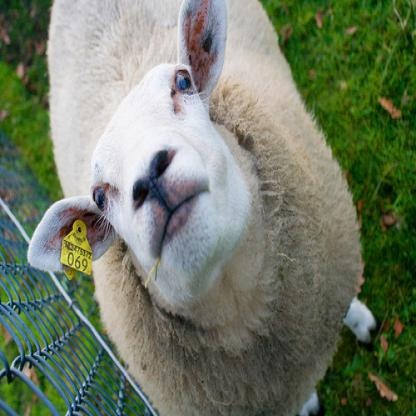sheep: (26, 0, 364, 415)
